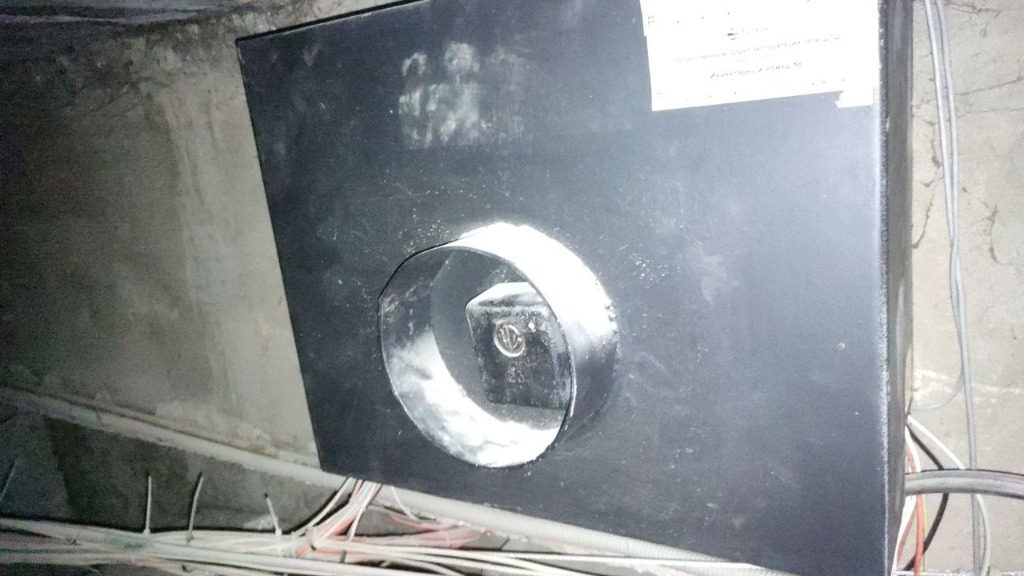shta-3: (230, 4, 917, 572)
